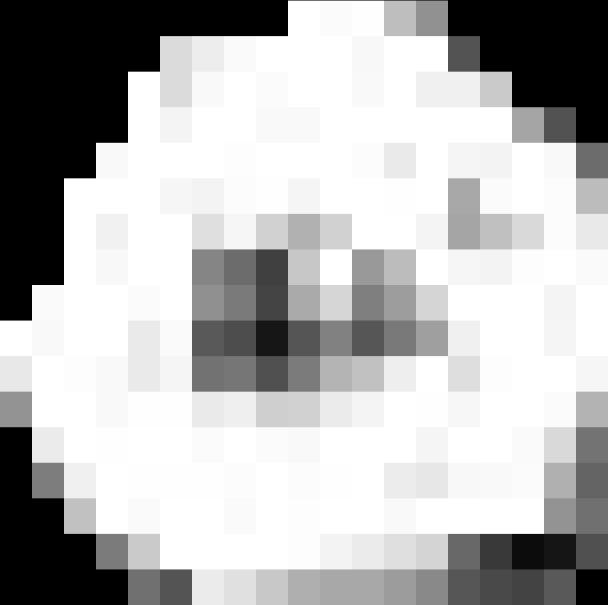tumor_good_chance: (0, 1, 608, 605)
